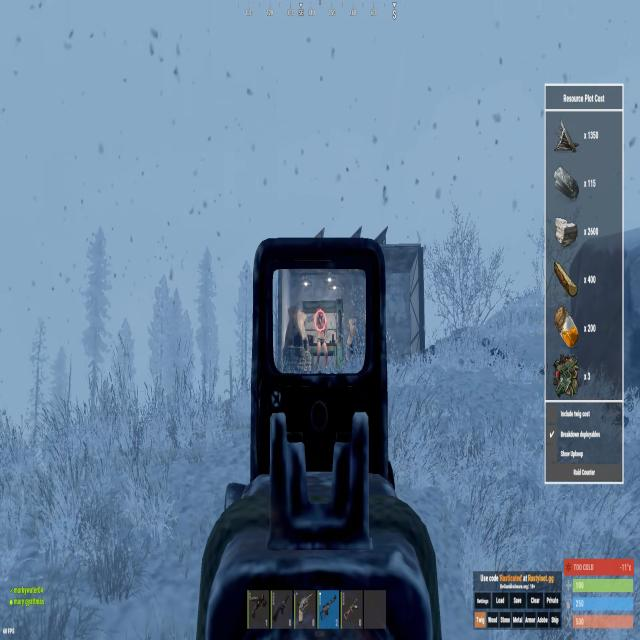Player: (314, 305, 329, 373)
